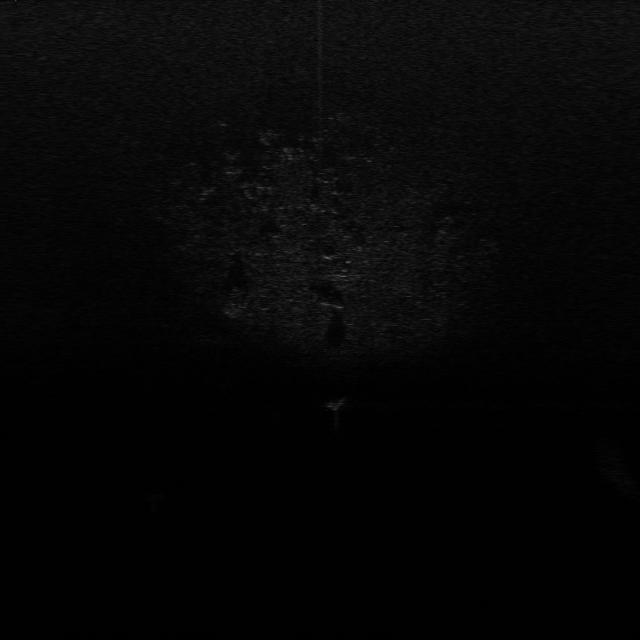square cage: (322, 394, 349, 413)
